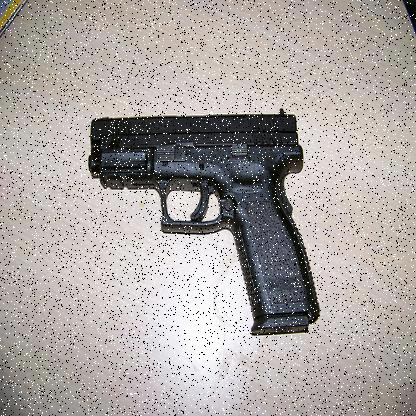pistol: (87, 110, 322, 341)
